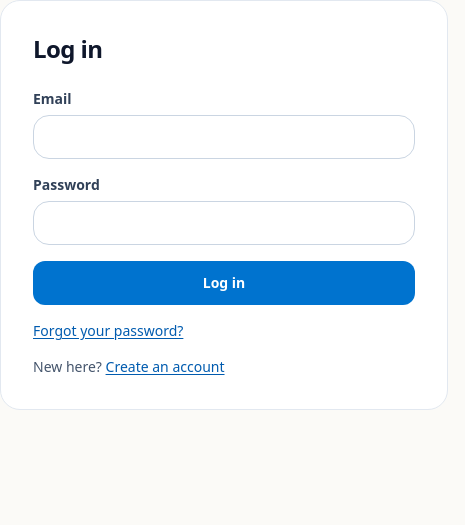
Test: LoginPage › I-9/I-10 invalid_credentials: "That email and password don't match an account." in a role="alert"
This screenshot has width=465, height=525.
Type "alex@example.com" into the field labelled "Email".
click(224, 137); type("alex@example.com")  # box 33,115 -> 415,159
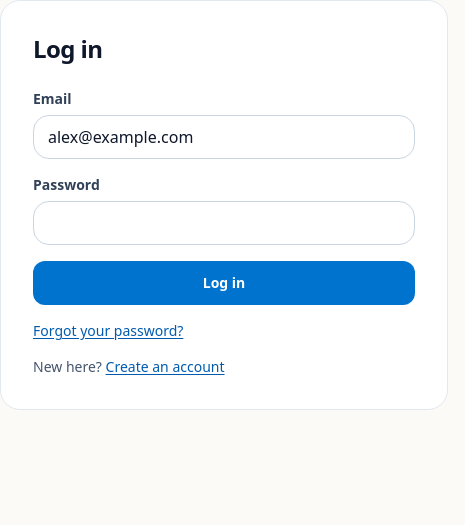
Type "a very long real password" into the password field labelled "Password".
click(224, 223); type("a very long real password")  # box 33,201 -> 415,245
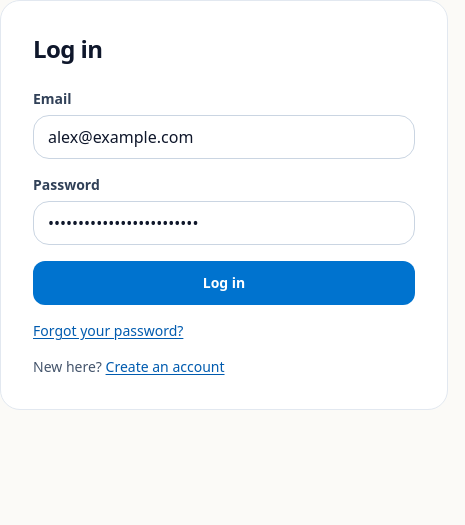
Click the button "Log in".
click(224, 283)  # box 33,261 -> 415,305
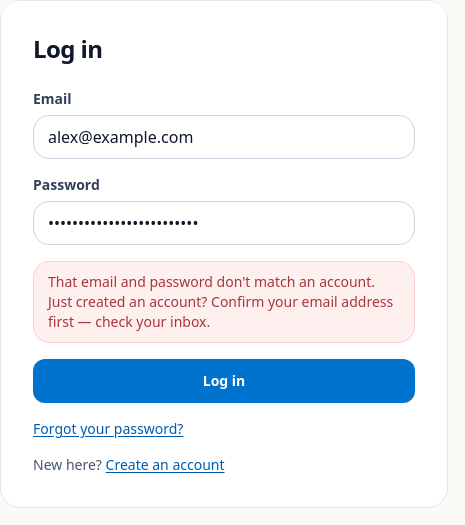
Now the message shows "That email and password don't match an account.", box 48,272 -> 375,291
